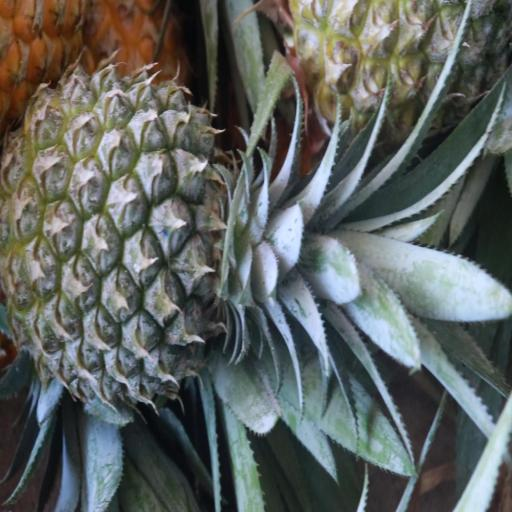------------------------------: (293, 0, 510, 148)
